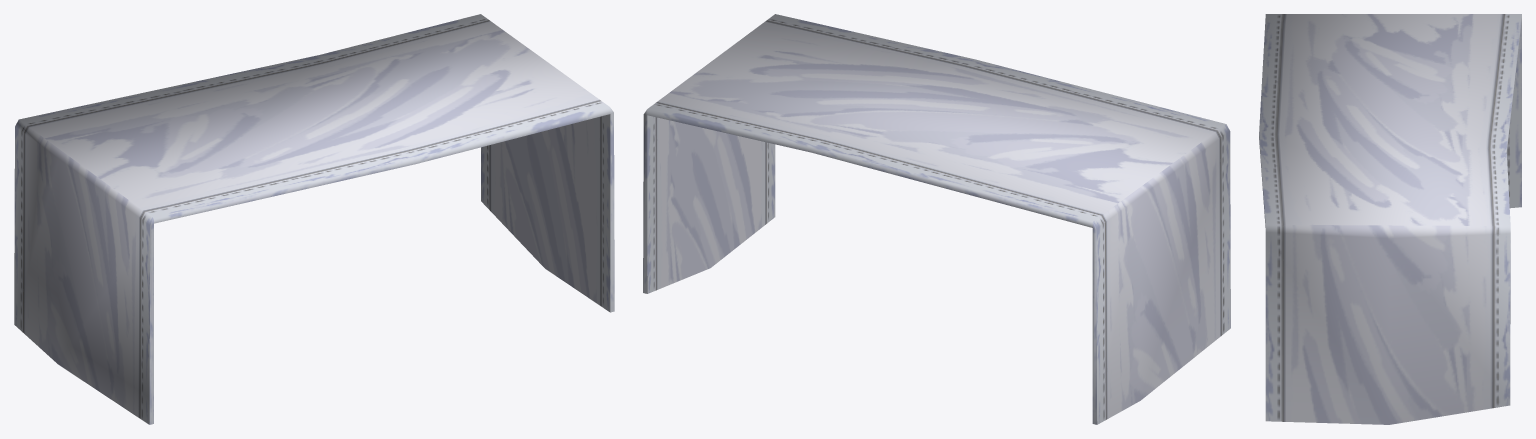
Rendered from SM_PROP_tablecloth_city_03.fbx.
3 renders of one model, left to right at view 1: azimuth 30°, elevation 25°; view 2: azimuth 150°, elevation 25°; view 3: azimuth 270°, elevation 25°, orthographic. The views are drawn at different scales.
Parts seen in each view (by area): view 1: SM_PROP_tablecloth_city_03; view 2: SM_PROP_tablecloth_city_03; view 3: SM_PROP_tablecloth_city_03.
Part boxes in pixels (x1,y1,x2,y2): SM_PROP_tablecloth_city_03: (14, 14, 614, 424); SM_PROP_tablecloth_city_03: (643, 14, 1230, 424); SM_PROP_tablecloth_city_03: (1259, 14, 1521, 424).
Size of the model in its own units: 101 by 43.73 by 51.96.
